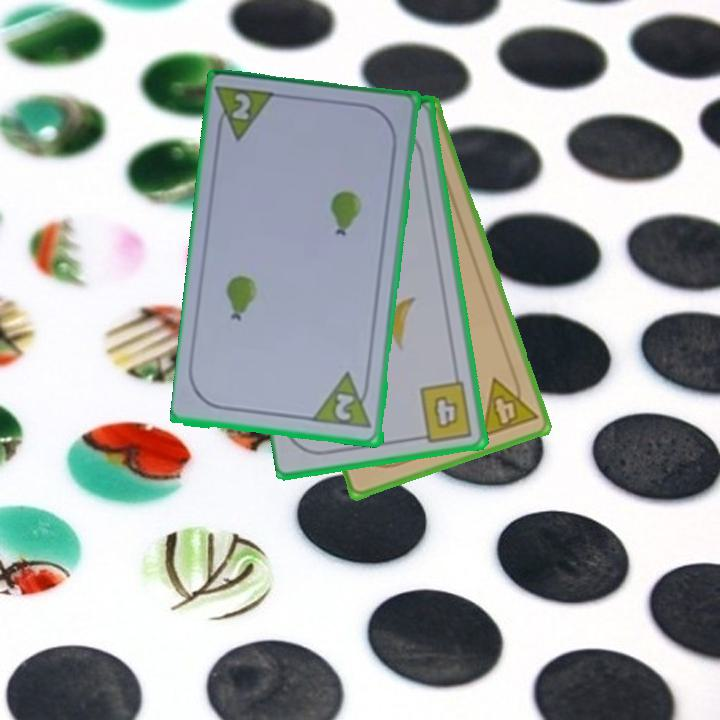2p: (213, 82, 280, 146), (331, 390, 357, 424)
4b: (413, 378, 476, 445)
4p: (477, 368, 540, 441)
